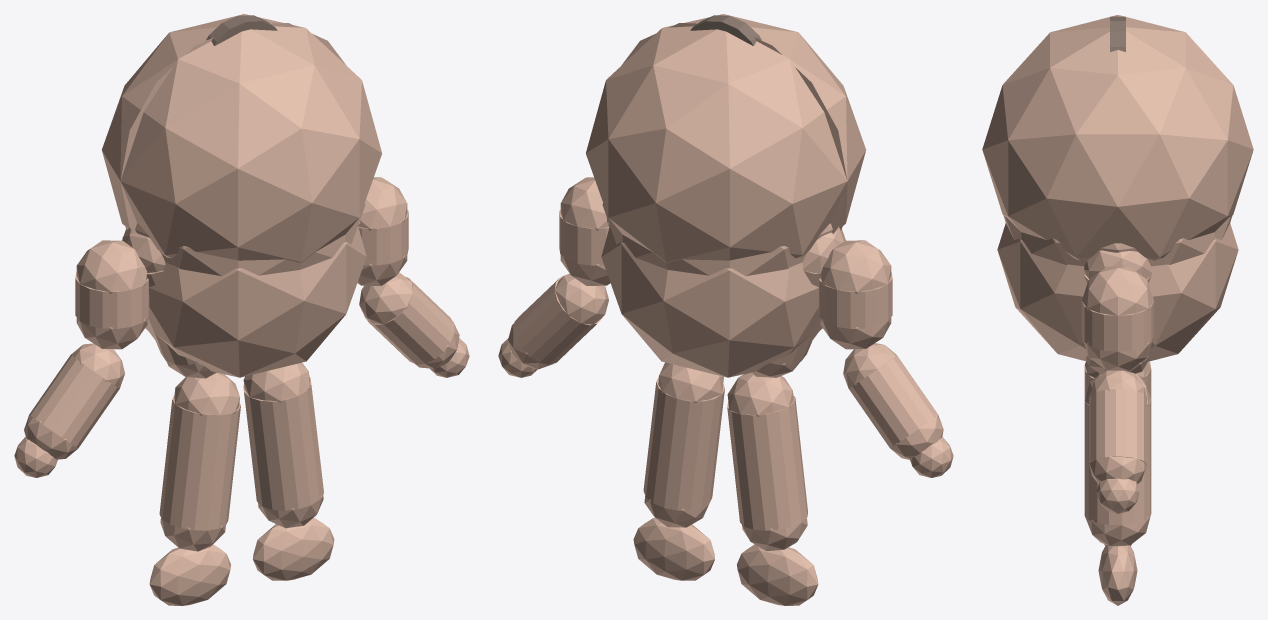
3 renders of one model, left to right at view 1: azimuth 30°, elevation 25°; view 2: azimuth 150°, elevation 25°; view 3: azimuth 270°, elevation 25°, orthographic. The views are drawn at different scales.
Visible parts, largest first — view 1: world; view 2: world; view 3: world.
Boxes of the visible parts, x1,y1,x2,y2 form: world: (14,14,469,605); world: (498,14,953,605); world: (982,15,1253,605).
Size of the model in its own units: 1.13 by 1.38 by 0.6121.
